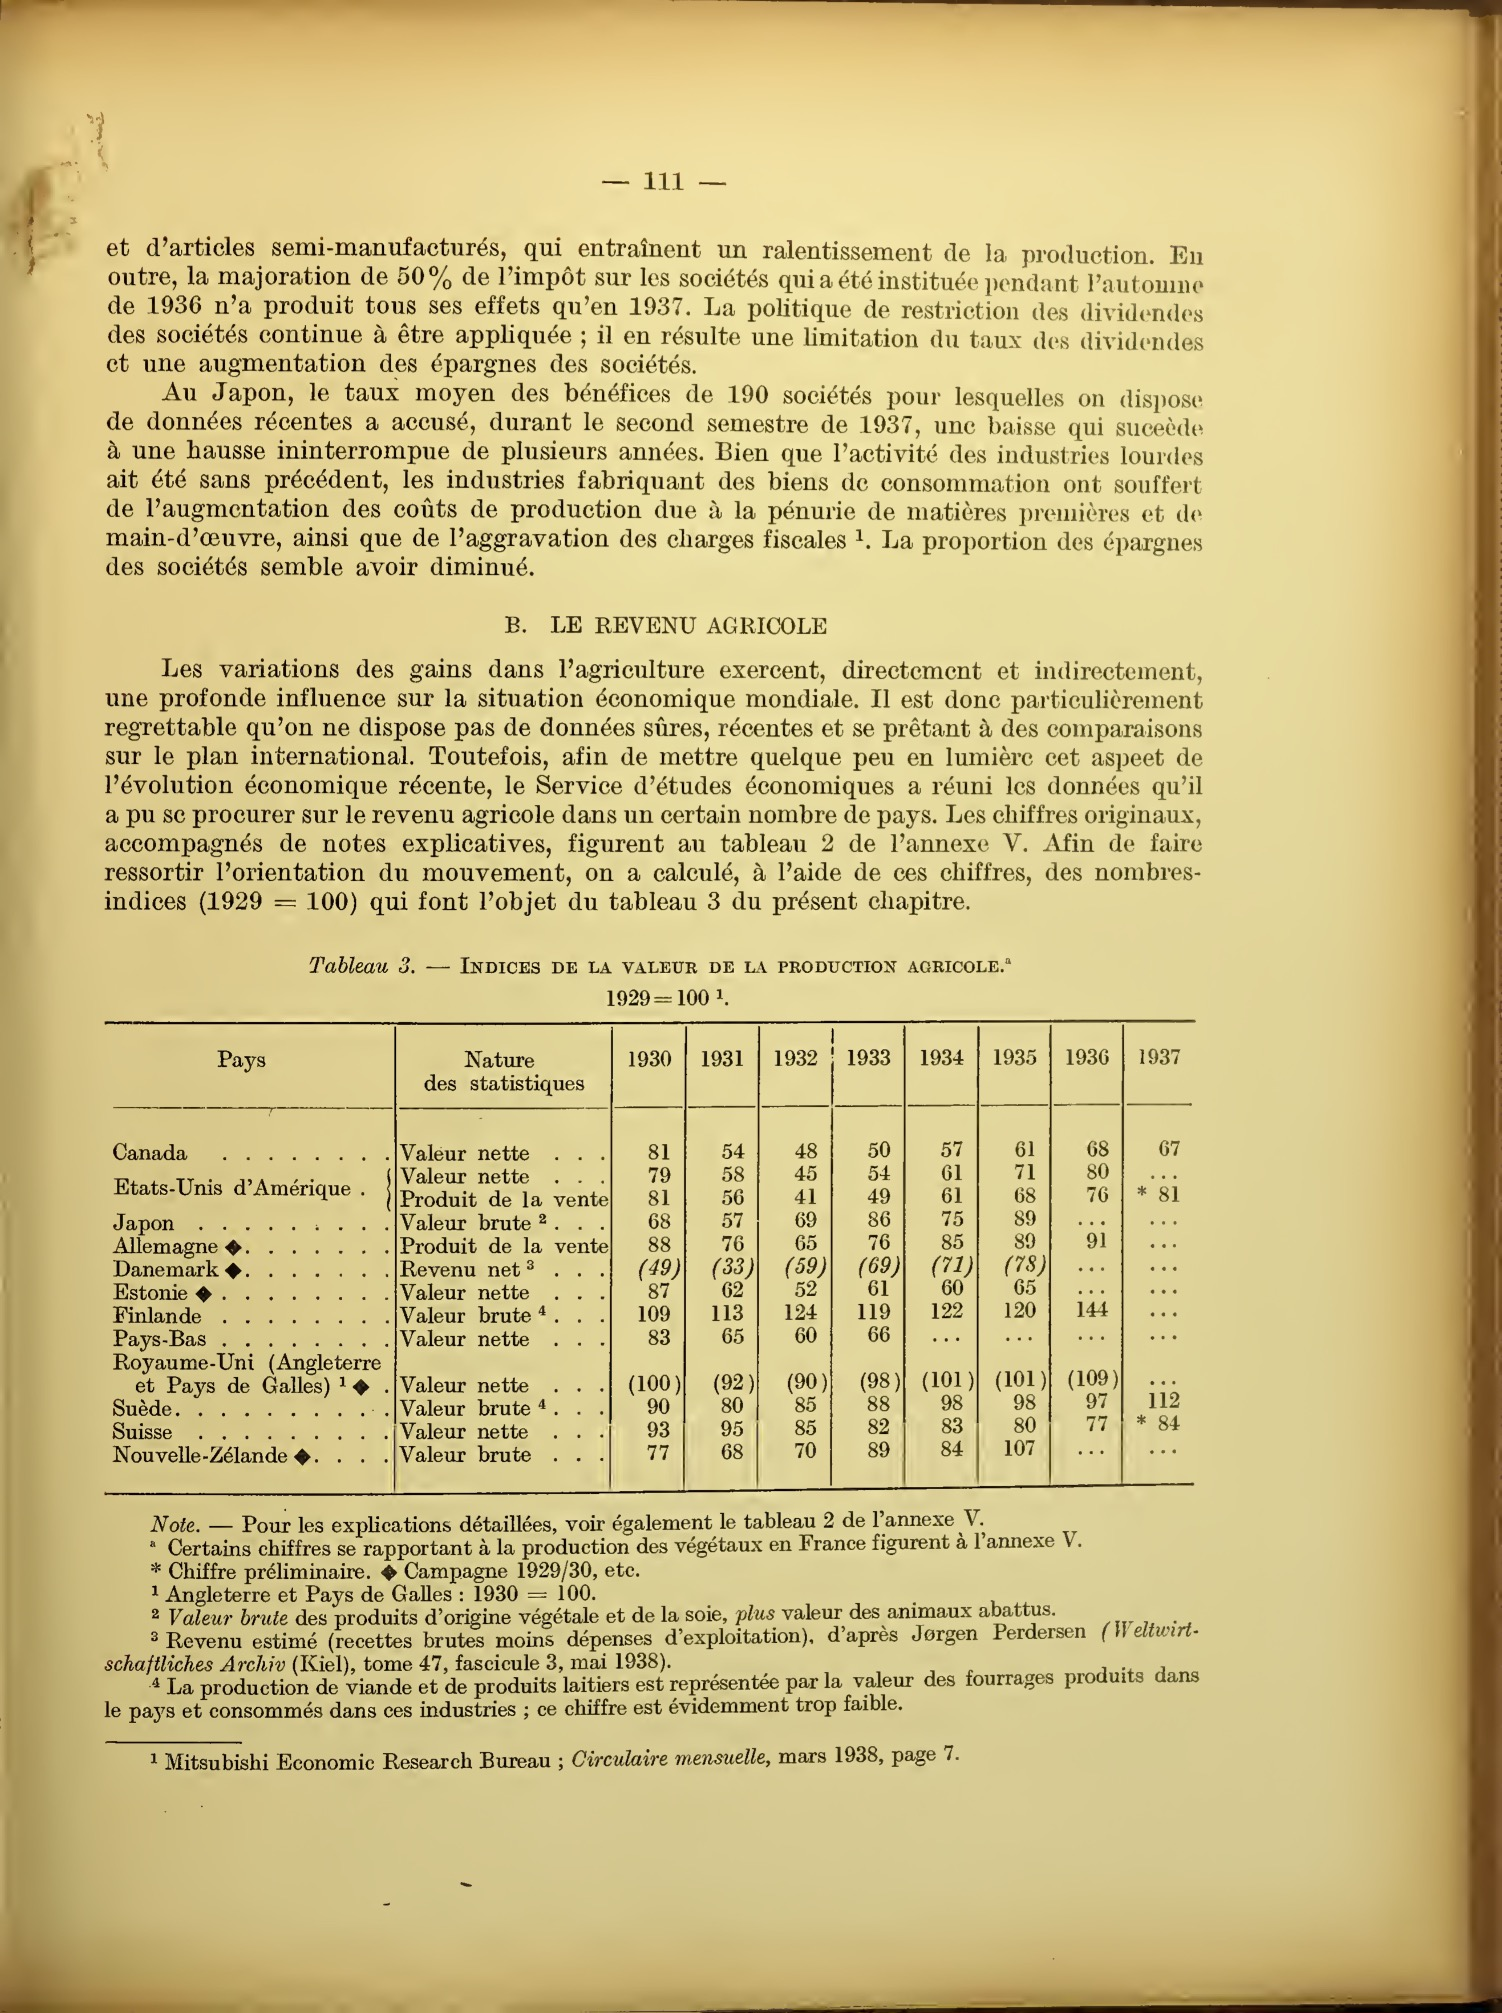MainZone-Continued: (94, 229, 1213, 379)
MainZone-Head: (489, 604, 838, 644)
MainZone-P: (96, 653, 1210, 925), (96, 378, 1212, 587)
MarginTextZone-Notes: (98, 1669, 1210, 1727), (105, 1626, 1210, 1673), (123, 1740, 968, 1782), (131, 1506, 1086, 1536), (148, 1530, 1092, 1557), (106, 1559, 1204, 1581), (122, 1604, 1096, 1628), (138, 1582, 612, 1606)
NumberingZone: (594, 164, 734, 207)
TableZone: (86, 944, 1214, 1728)
TableZone-Head: (295, 946, 1020, 1013)
